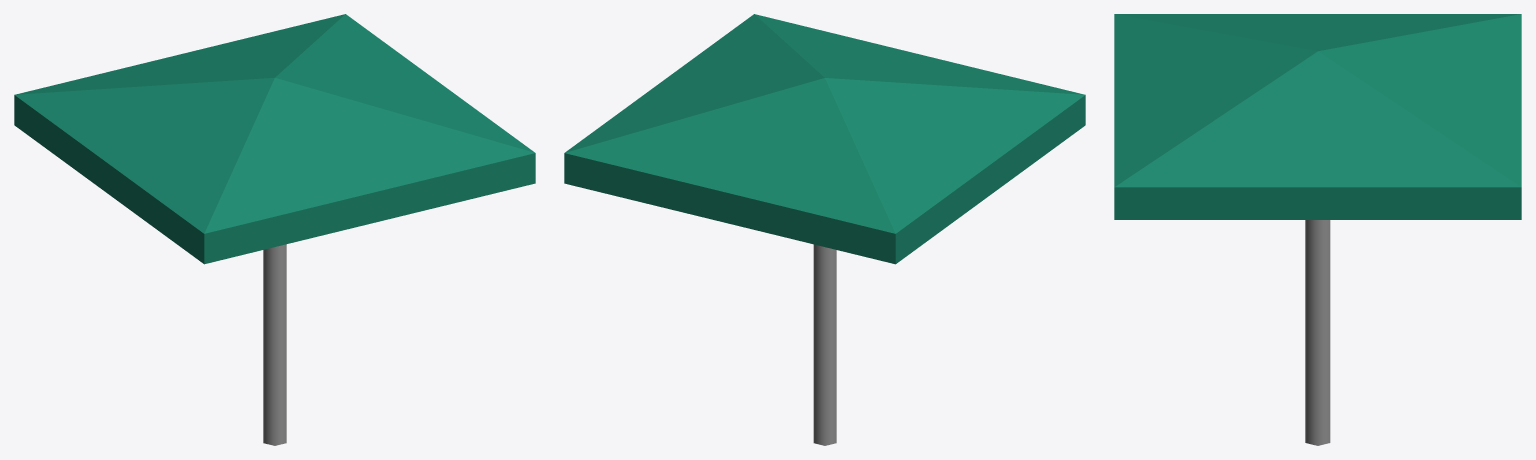
The model's file is caffe_umbrella_v1.fbx.
3 renders of one model, left to right at view 1: azimuth 30°, elevation 25°; view 2: azimuth 150°, elevation 25°; view 3: azimuth 270°, elevation 25°, orthographic. The views are drawn at different scales.
Visible parts, largest first — view 1: caffe_umbrella_v1; view 2: caffe_umbrella_v1; view 3: caffe_umbrella_v1.
Part boxes in pixels (left/top/right/bottom): caffe_umbrella_v1: left=14, top=14, right=535, bottom=445; caffe_umbrella_v1: left=564, top=14, right=1085, bottom=445; caffe_umbrella_v1: left=1114, top=14, right=1521, bottom=445.
Bounding box in the file's own units: 184 × 193 × 183.
